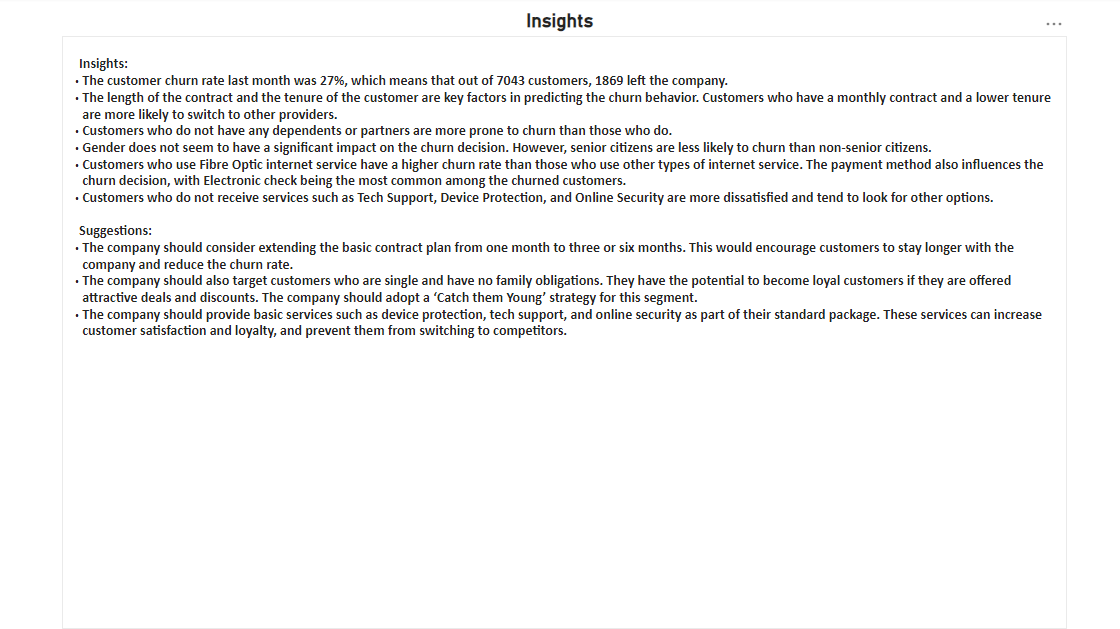

Layout of this report page (visuals, bound fields, positions):
{"tool":"powerbi","page":{"name":"Insights","canvas":[1280,720],"ordinal":2},"visuals":[{"type":"shape","box":[0,43.3,1280,51.1],"z":0},{"type":"textbox","box":[500,13.3,280,55.6],"z":1000},{"type":"textbox","box":[53.3,84.4,1164.4,635.6],"z":2000}]}

Visuals, with their boxes in screenshot pixels (x1, y1, x2, y2), scaled from the page's 1280x720 canvas onto the 1120x629 screenshot:
shape: [0,38,1119,82]
textbox: [438,12,682,60]
textbox: [47,74,1065,628]
